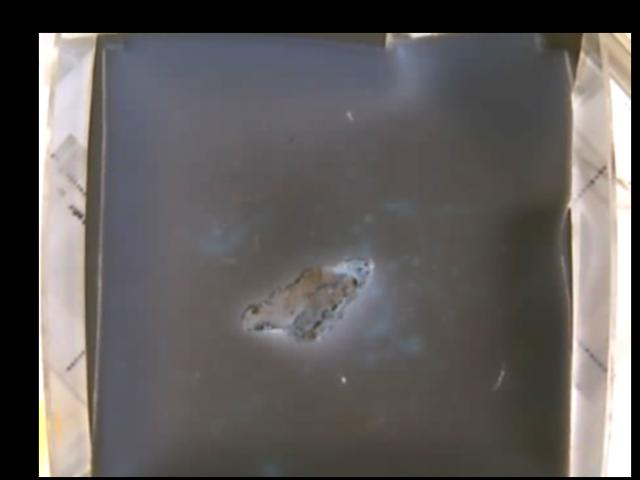Brisk: (239, 254, 372, 343)
